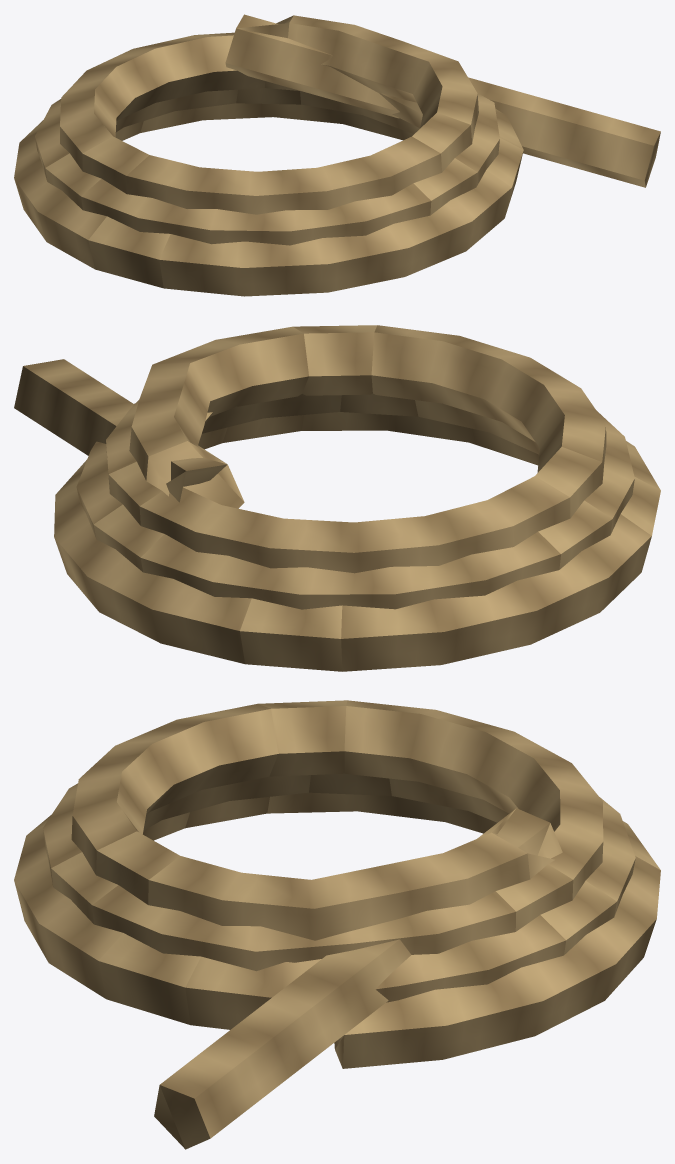
File: SM_Pickup_Rope.fbx
3 renders of one model, top to bottom at view 1: azimuth 30°, elevation 25°; view 2: azimuth 150°, elevation 25°; view 3: azimuth 270°, elevation 25°, orthographic. The views are drawn at different scales.
Visible parts, largest first — view 1: SM_Pickup_Rope; view 2: SM_Pickup_Rope; view 3: SM_Pickup_Rope.
Boxes of the visible parts, bbox=[...] form: SM_Pickup_Rope: bbox=[14, 14, 660, 296]; SM_Pickup_Rope: bbox=[14, 325, 660, 671]; SM_Pickup_Rope: bbox=[14, 700, 660, 1149].
Bounding box in the file's own units: 1.56 × 0.3588 × 1.23.
Materials: 1 (1 with a texture image).
